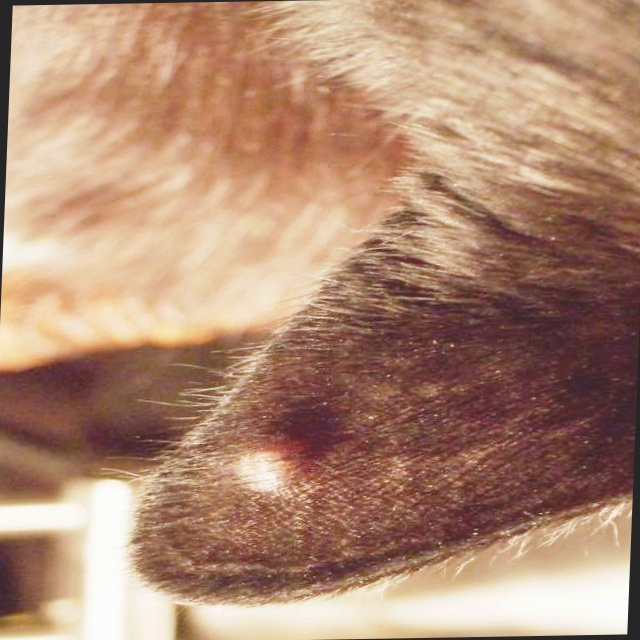lump_and_bump: (230, 431, 294, 492)
